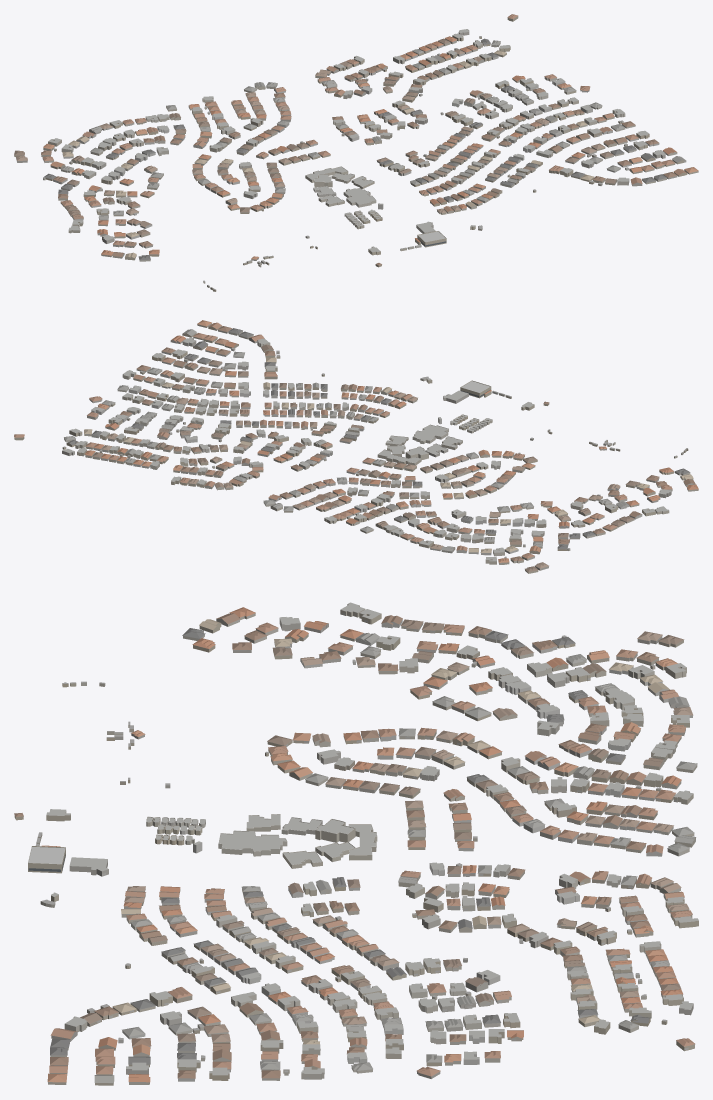
The model's file is buildings_r5_c4.glb.
3 views of the same model, one above another, from view 1: azimuth 30°, elevation 25°; view 2: azimuth 150°, elevation 25°; view 3: azimuth 270°, elevation 25° (orthographic). The views are drawn at different scales.
Parts seen in each view (by area): view 1: buildings_r5_c4; view 2: buildings_r5_c4; view 3: buildings_r5_c4.
Boxes of the visible parts, box(x1,y1,x2,y2) form: buildings_r5_c4: box(14, 14, 698, 291); buildings_r5_c4: box(14, 320, 698, 573); buildings_r5_c4: box(14, 602, 698, 1085).
Bounding box in the file's own units: 1141 × 62.57 × 711.
